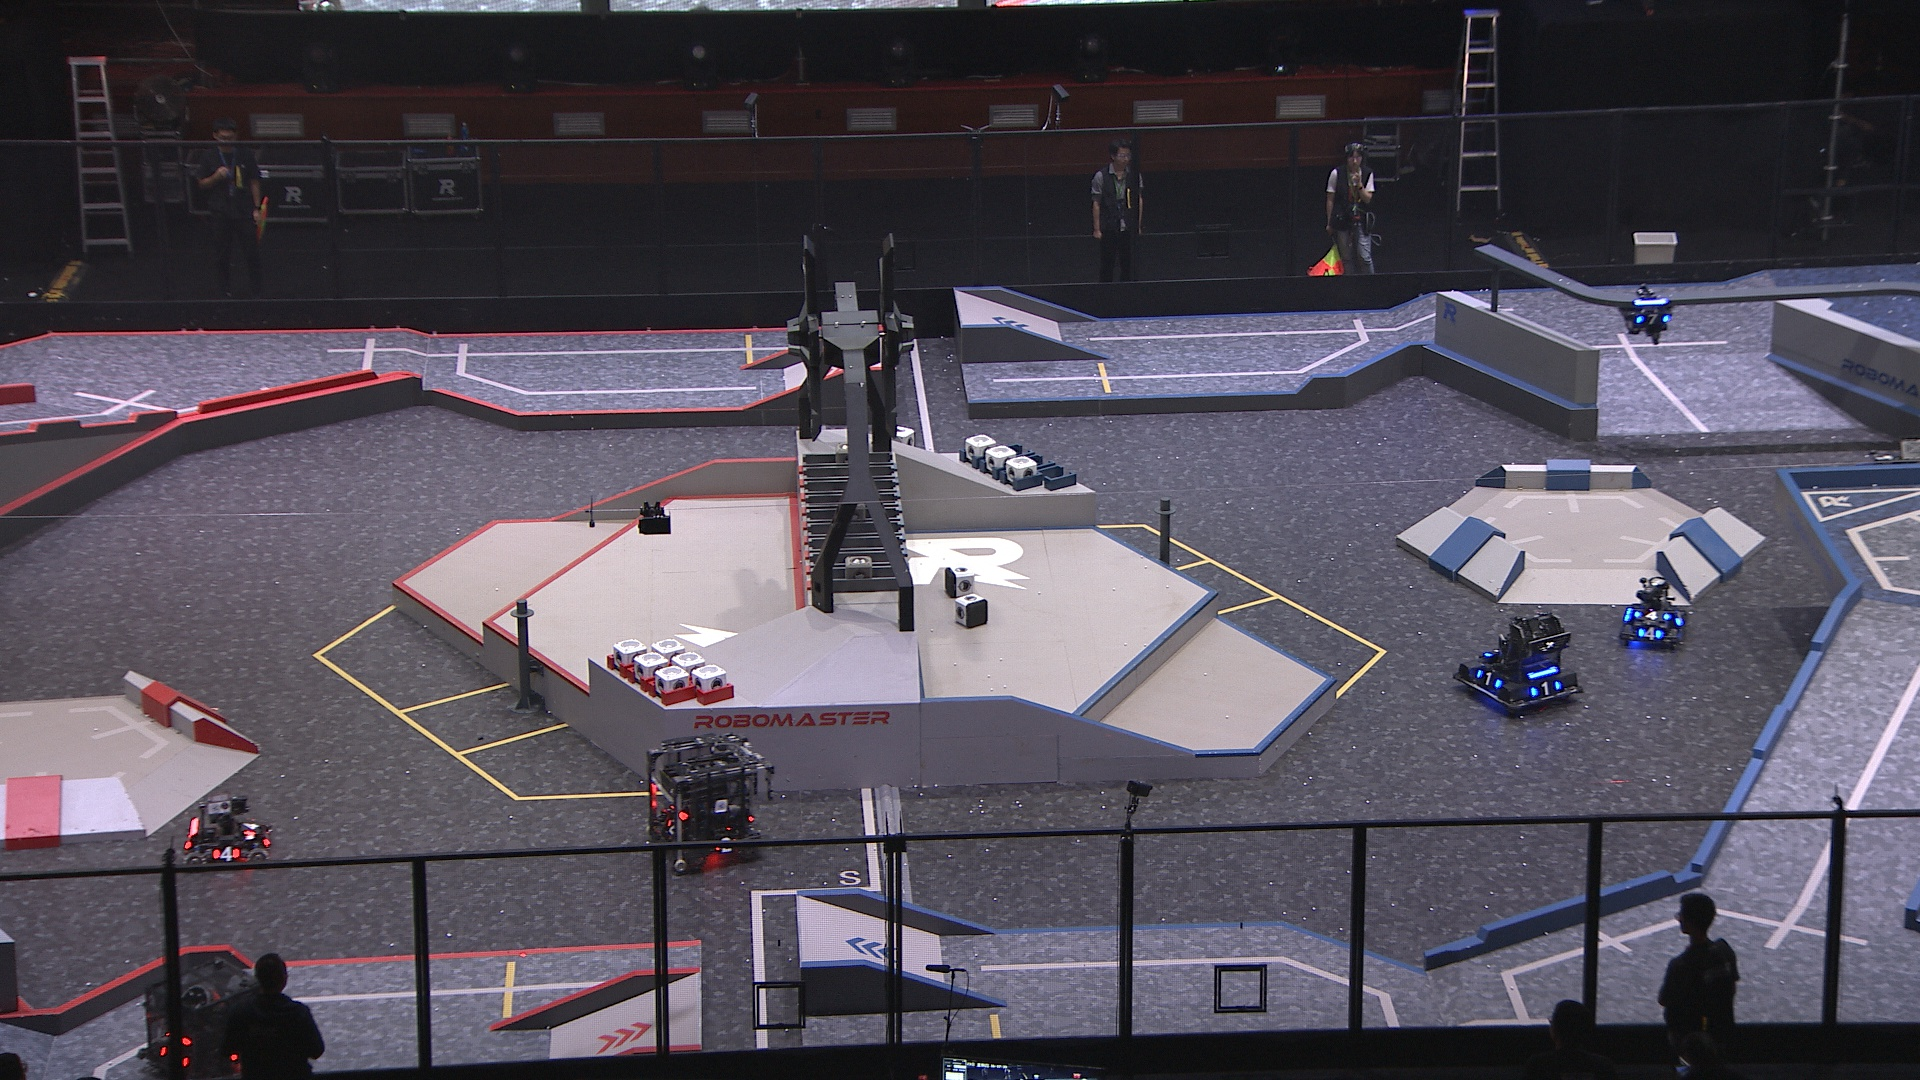armor: (1633, 311, 1673, 328), (1528, 679, 1563, 699), (1631, 607, 1673, 622), (1476, 670, 1505, 692), (239, 814, 261, 839), (713, 833, 738, 855), (1633, 626, 1665, 642), (210, 847, 240, 864), (1671, 609, 1685, 632), (665, 815, 678, 836)
car: (645, 731, 775, 873), (141, 951, 272, 1077), (1452, 609, 1586, 719), (177, 793, 278, 874), (1614, 572, 1692, 651)
watcher: (1614, 282, 1673, 348)
